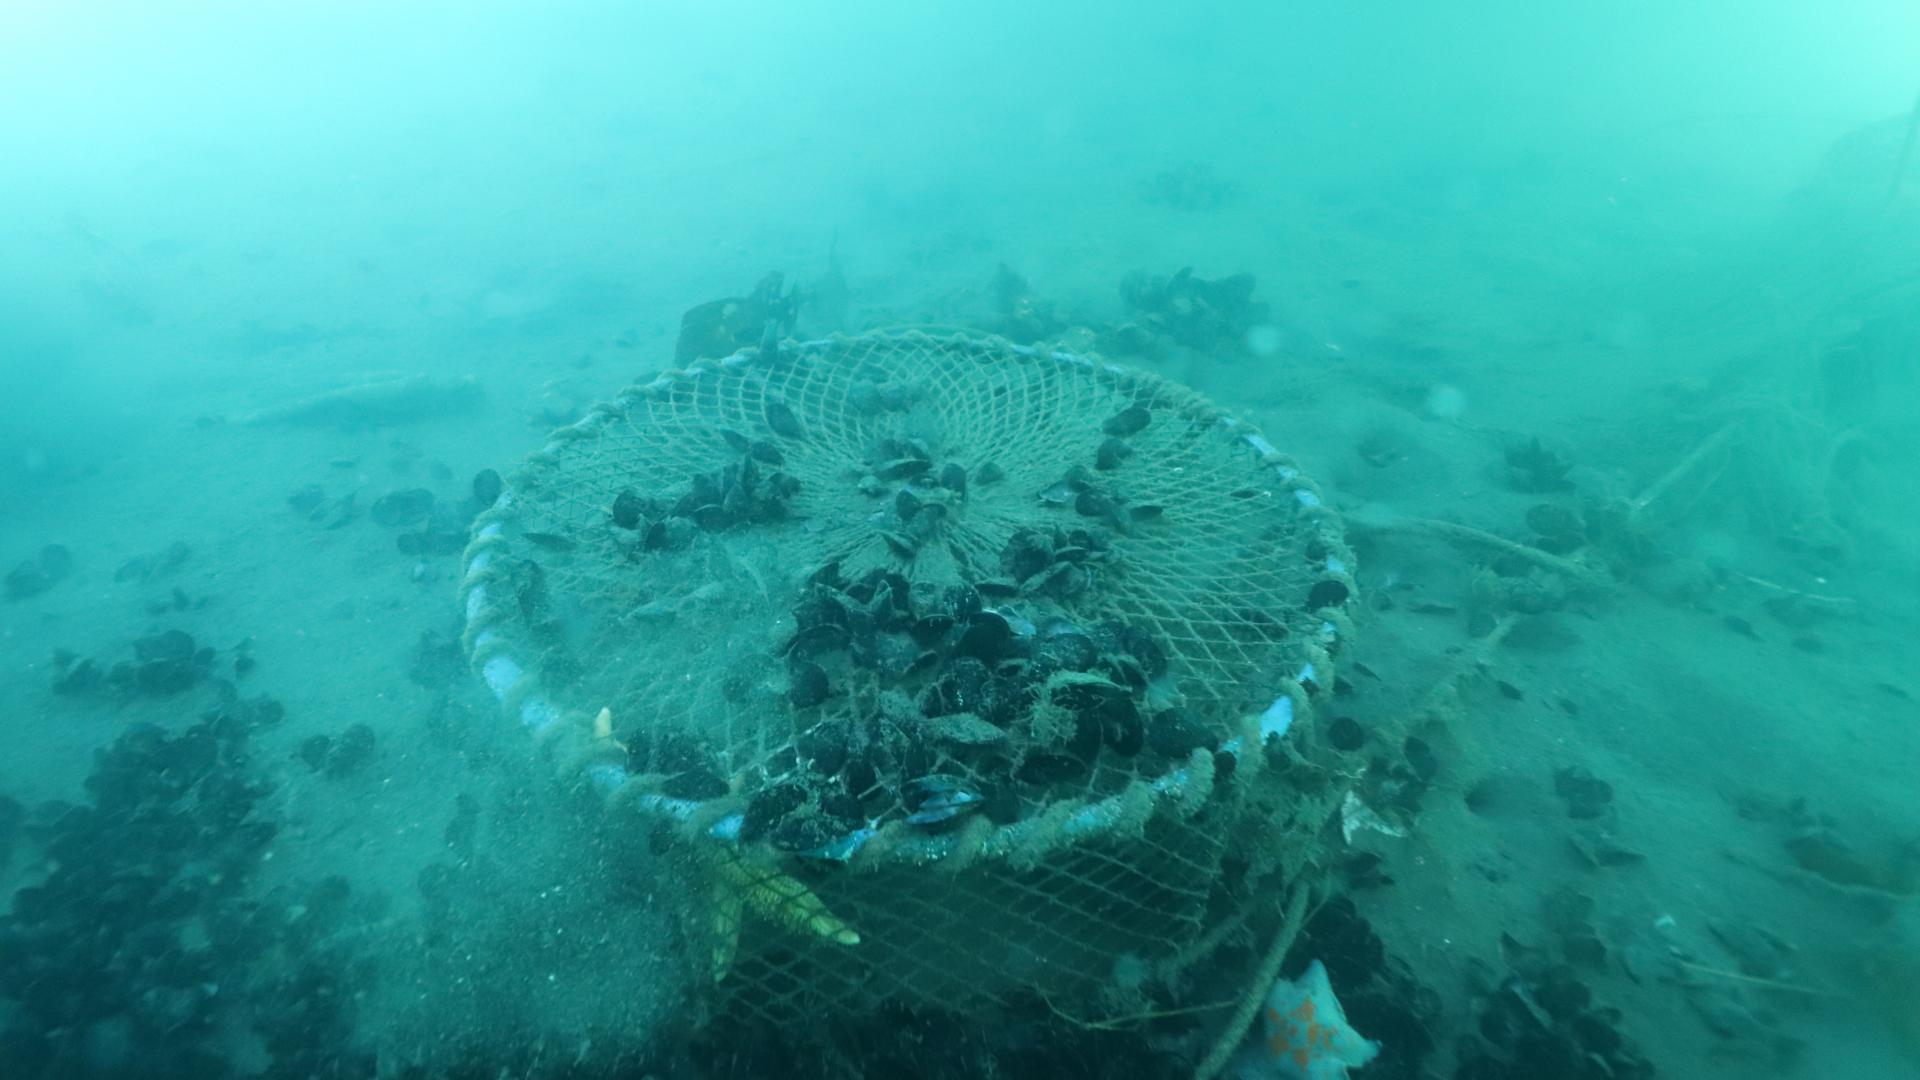circular fish trap: (447, 323, 1361, 1080)
